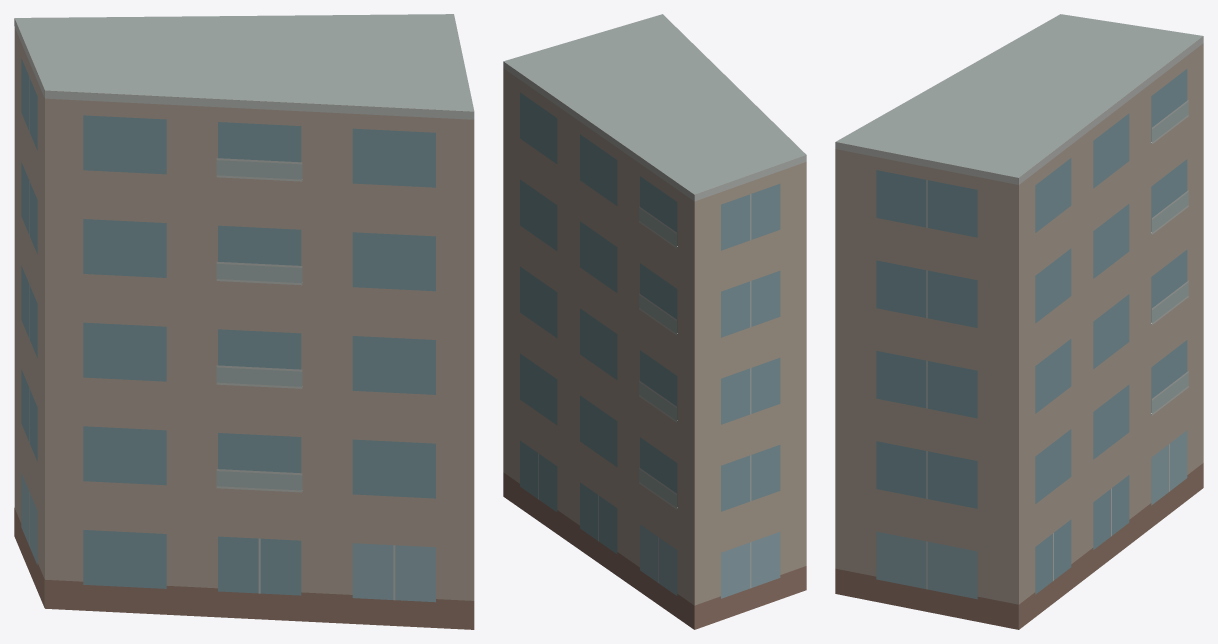
The model's file is survey-upis-32476800.glb.
3 views of the same model, side by side, from view 1: azimuth 30°, elevation 25°; view 2: azimuth 150°, elevation 25°; view 3: azimuth 270°, elevation 25° (orthographic). The views are drawn at different scales.
Parts seen in each view (by area): view 1: survey-upis-32476800.tmp; view 2: survey-upis-32476800.tmp; view 3: survey-upis-32476800.tmp.
Boxes of the visible parts, left/top/right/bottom form: survey-upis-32476800.tmp: left=14, top=14, right=474, bottom=629; survey-upis-32476800.tmp: left=503, top=14, right=806, bottom=629; survey-upis-32476800.tmp: left=835, top=14, right=1203, bottom=629.
Bounding box in the file's own units: 12.14 × 15.6 × 11.53.
